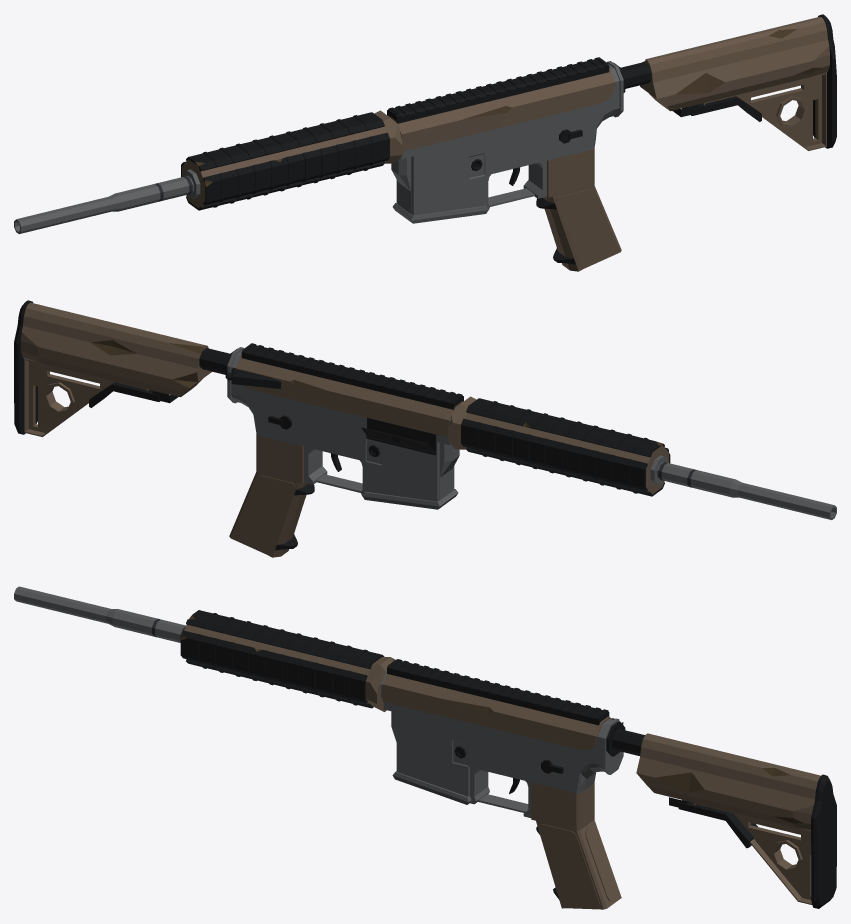
Rendered from Assault_Rifle_5,56_01.gltf.
3 renders of one model, top to bottom at view 1: azimuth 30°, elevation 25°; view 2: azimuth 150°, elevation 25°; view 3: azimuth 330°, elevation 25°, orthographic.
Visible parts, largest first — view 1: Assault_Rifle_5,56_01; view 2: Assault_Rifle_5,56_01, Lid_Gate_01; view 3: Assault_Rifle_5,56_01.
Boxes of the visible parts, bbox=[...] form: Assault_Rifle_5,56_01: bbox=[14, 14, 836, 271]; Assault_Rifle_5,56_01: bbox=[14, 300, 836, 557]; Lid_Gate_01: bbox=[361, 427, 434, 452]; Assault_Rifle_5,56_01: bbox=[14, 586, 836, 909].
Size of the model in its own units: 0.9159 by 0.2146 by 0.0578.
